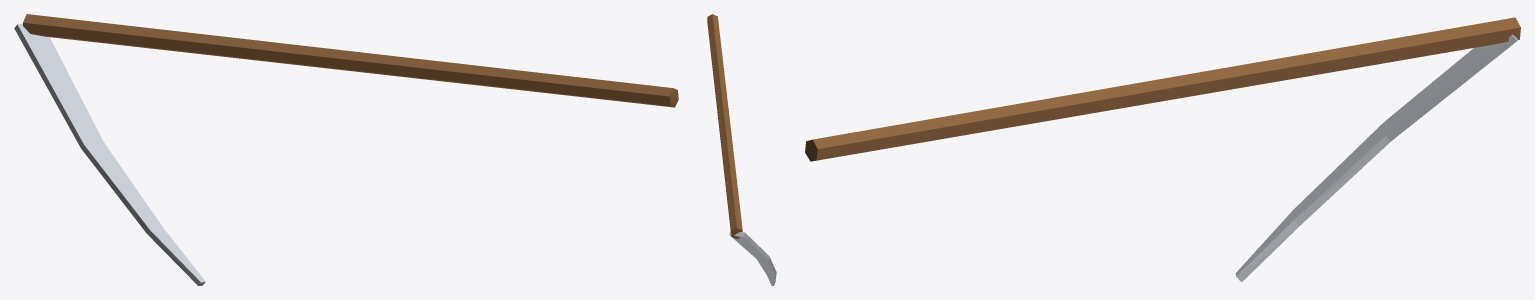
File: prop_scythe_female.obj
3 views of the same model, side by side, from view 1: azimuth 30°, elevation 25°; view 2: azimuth 150°, elevation 25°; view 3: azimuth 270°, elevation 25° (orthographic). The views are drawn at different scales.
Parts seen in each view (by area): view 1: Arm.R.Lower.Scythe.Snath, Arm.R.Lower.Scythe.Blade; view 2: Arm.R.Lower.Scythe.Snath, Arm.R.Lower.Scythe.Blade; view 3: Arm.R.Lower.Scythe.Snath, Arm.R.Lower.Scythe.Blade.
Boxes of the visible parts, bbox=[...] form: Arm.R.Lower.Scythe.Snath: bbox=[23, 14, 678, 107]; Arm.R.Lower.Scythe.Blade: bbox=[14, 23, 205, 285]; Arm.R.Lower.Scythe.Snath: bbox=[707, 14, 742, 238]; Arm.R.Lower.Scythe.Blade: bbox=[729, 231, 776, 285]; Arm.R.Lower.Scythe.Snath: bbox=[805, 17, 1520, 161]; Arm.R.Lower.Scythe.Blade: bbox=[1235, 18, 1517, 282].
Size of the model in its own units: 0.888 by 0.613 by 1.3.
